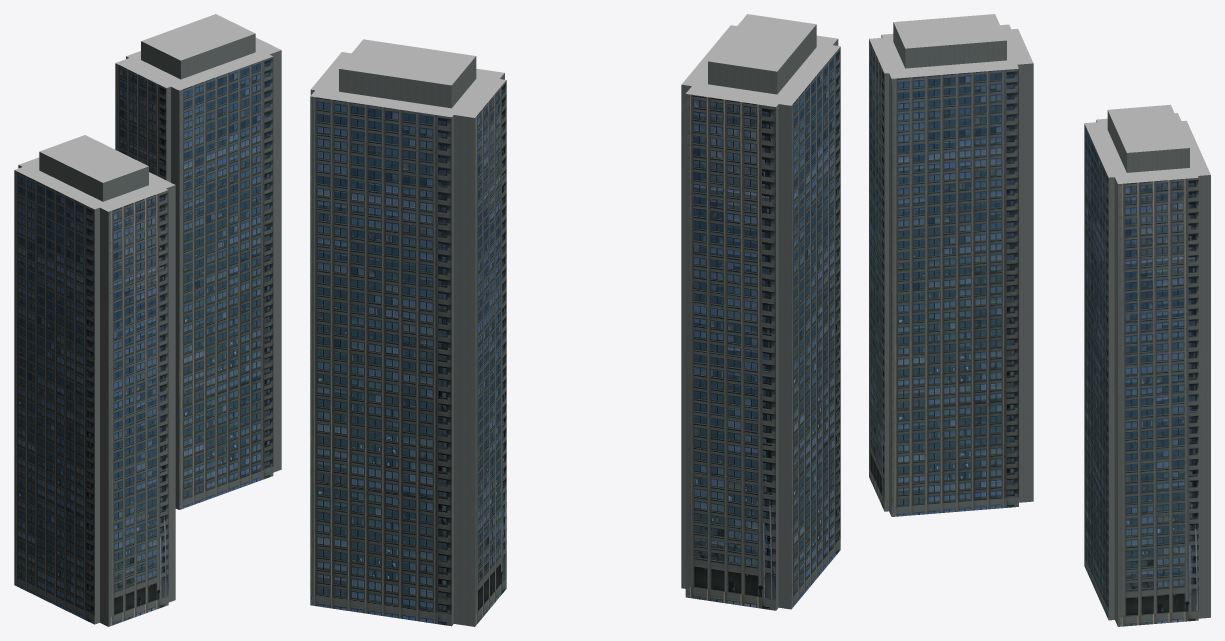
The model's file is harborbuildings.dae.
3 views of the same model, side by side, from view 1: azimuth 30°, elevation 25°; view 2: azimuth 150°, elevation 25°; view 3: azimuth 270°, elevation 25° (orthographic). The views are drawn at different scales.
Parts seen in each view (by area): view 1: Component_2 (×14); view 2: Component_2 (×13); view 3: Component_2 (×14).
Boxes of the visible parts, left/top/right/bottom form: Component_2 (×14): left=14, top=14, right=281, bottom=626; Component_2 (×13): left=310, top=14, right=840, bottom=626; Component_2 (×14): left=869, top=14, right=1210, bottom=626.
Bounding box in the file's own units: 3741 × 3291 × 4912.
4 materials, 3 textured.
